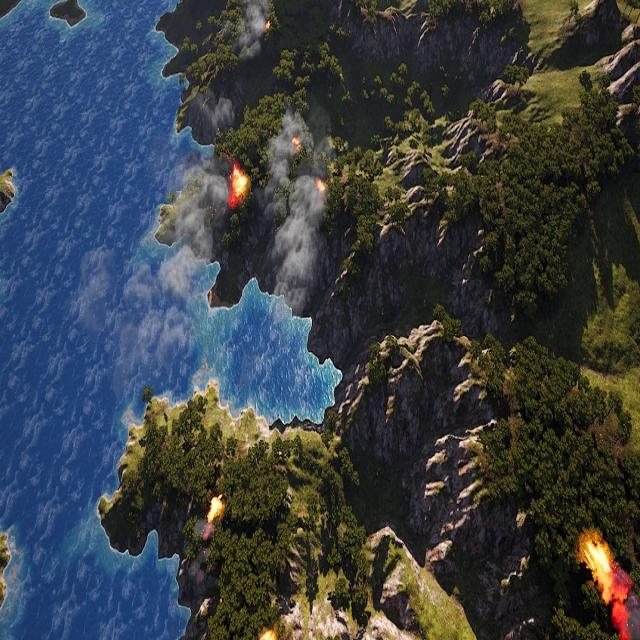fire: (584, 539, 614, 604), (230, 160, 250, 208), (208, 497, 224, 521), (318, 179, 326, 197), (292, 136, 300, 151), (264, 19, 270, 32)
smoke: (253, 105, 335, 321), (598, 566, 640, 640), (235, 0, 269, 63)
